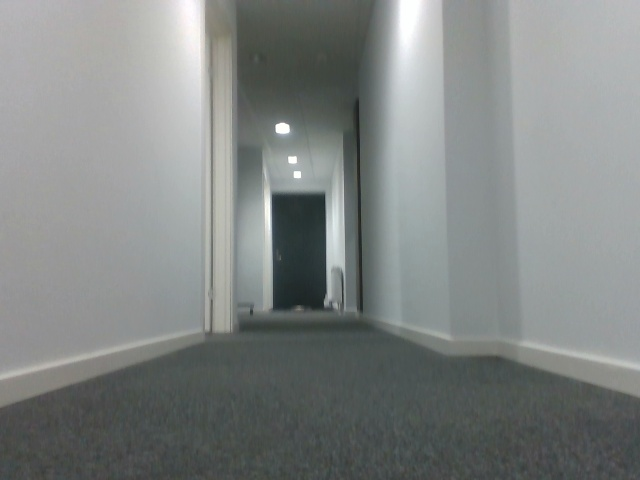alfa: (69, 278, 99, 332)
